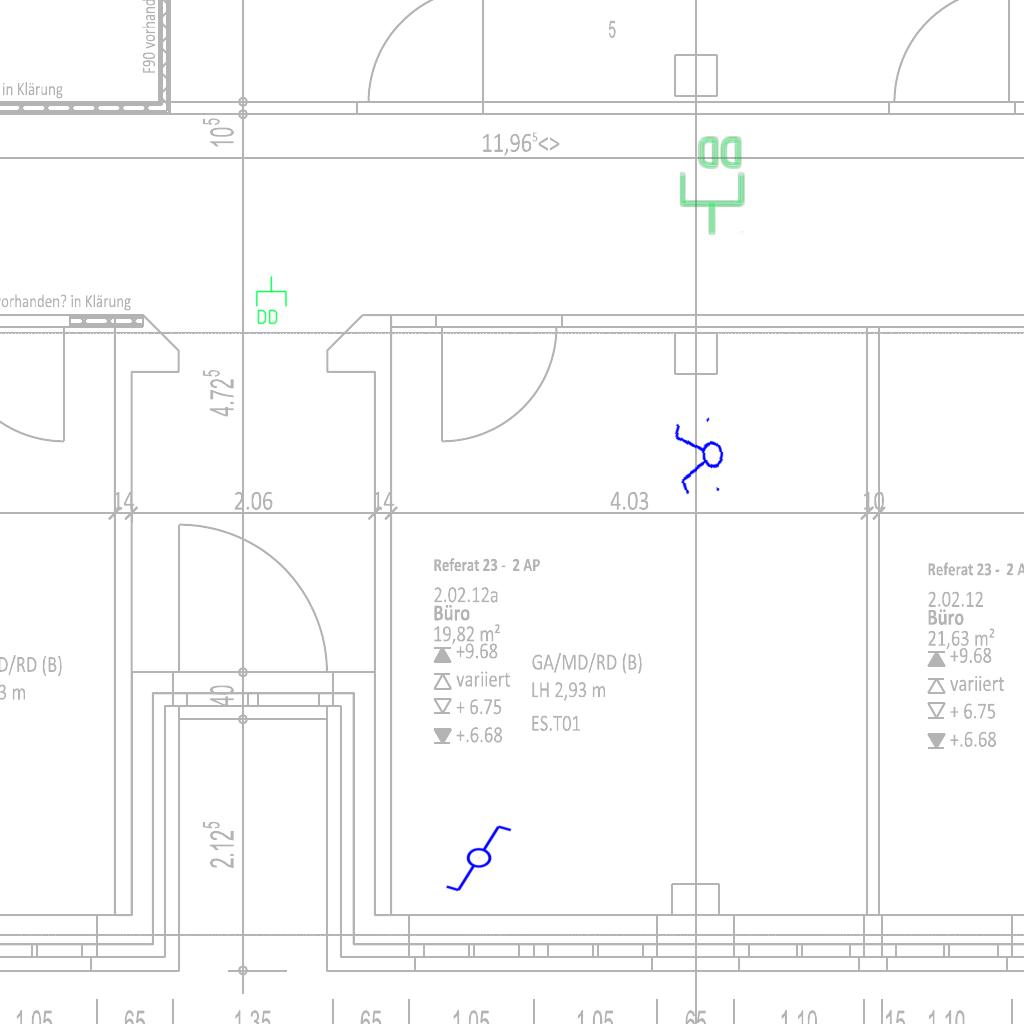Datenanschluss_zweifach: (678, 134, 747, 237), (254, 275, 288, 326)
Serienschalter: (670, 412, 730, 502)
Wechselschalter: (444, 823, 522, 895)
